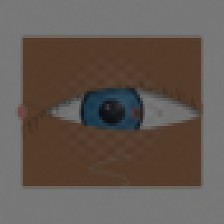foreign_body_visible: (128, 107, 145, 120)
